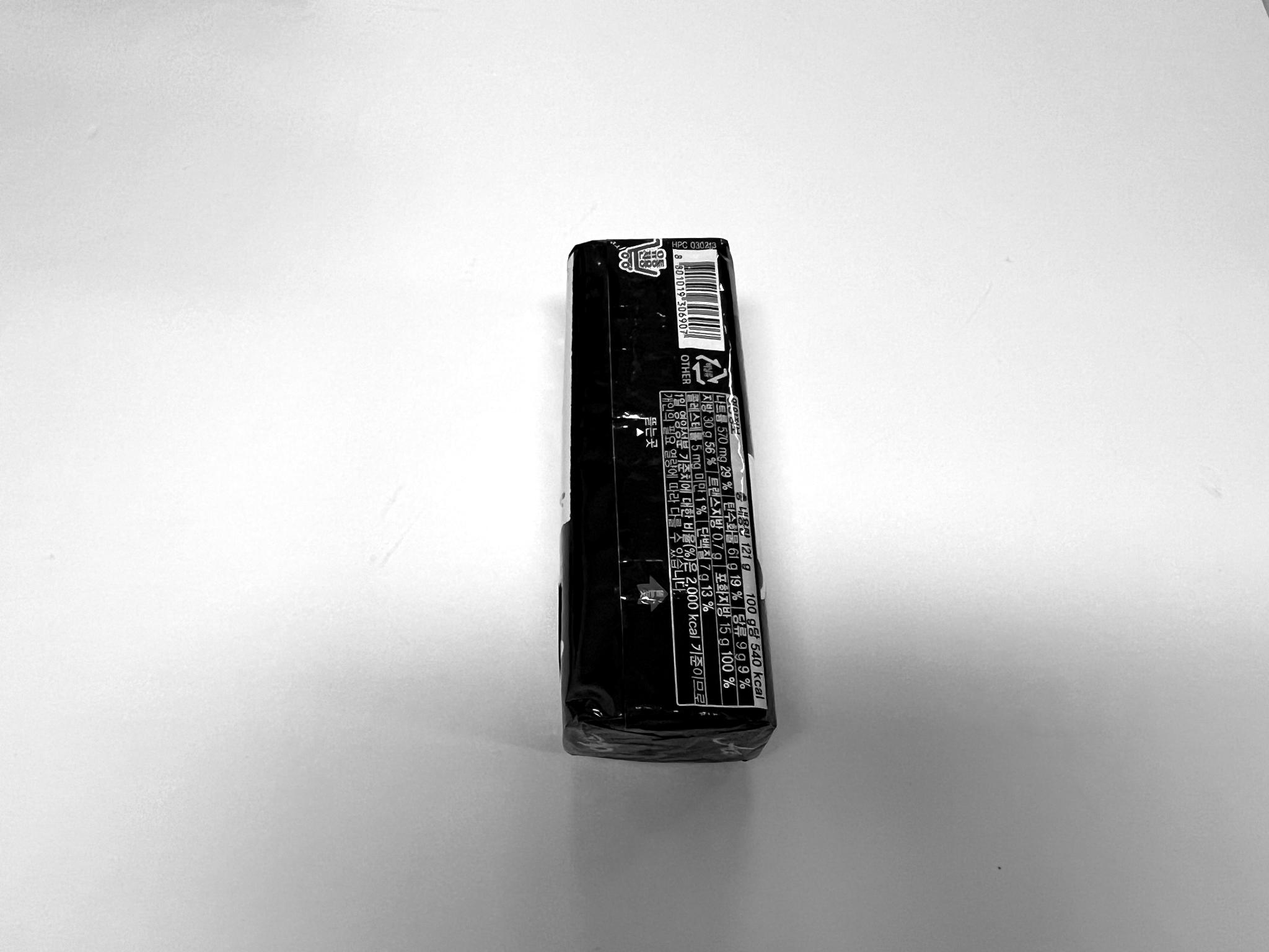cracker_ace: (565, 236, 777, 762)
